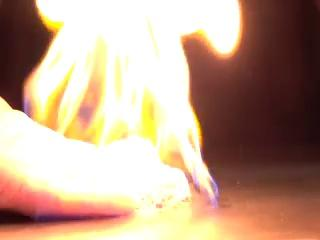Fire: (18, 0, 233, 214)
